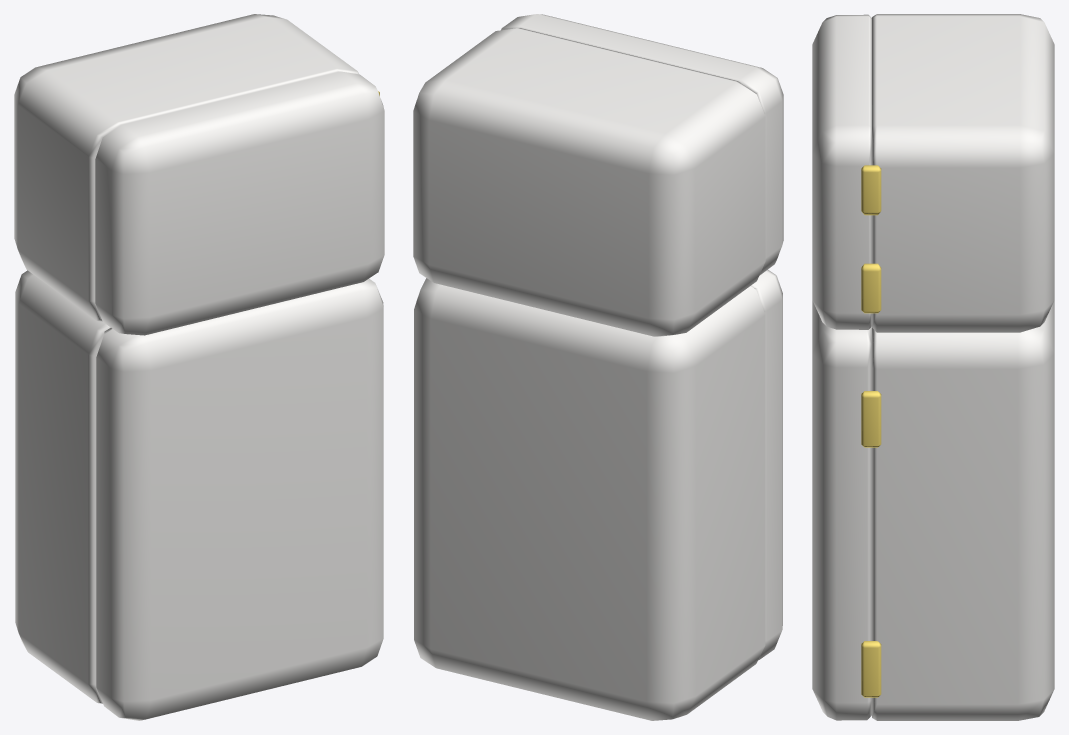
Rendered from Fridge_2.glb.
3 renders of one model, left to right at view 1: azimuth 30°, elevation 25°; view 2: azimuth 150°, elevation 25°; view 3: azimuth 270°, elevation 25°, orthographic.
Parts seen in each view (by area): view 1: Fridge_2; view 2: Fridge_2; view 3: Fridge_2.
Boxes of the visible parts, bbox=[...] form: Fridge_2: bbox=[14, 14, 384, 720]; Fridge_2: bbox=[413, 14, 783, 720]; Fridge_2: bbox=[812, 14, 1054, 720].
Size of the model in its own units: 1.1 by 2.15 by 0.7932.
1 material, 1 textured.
